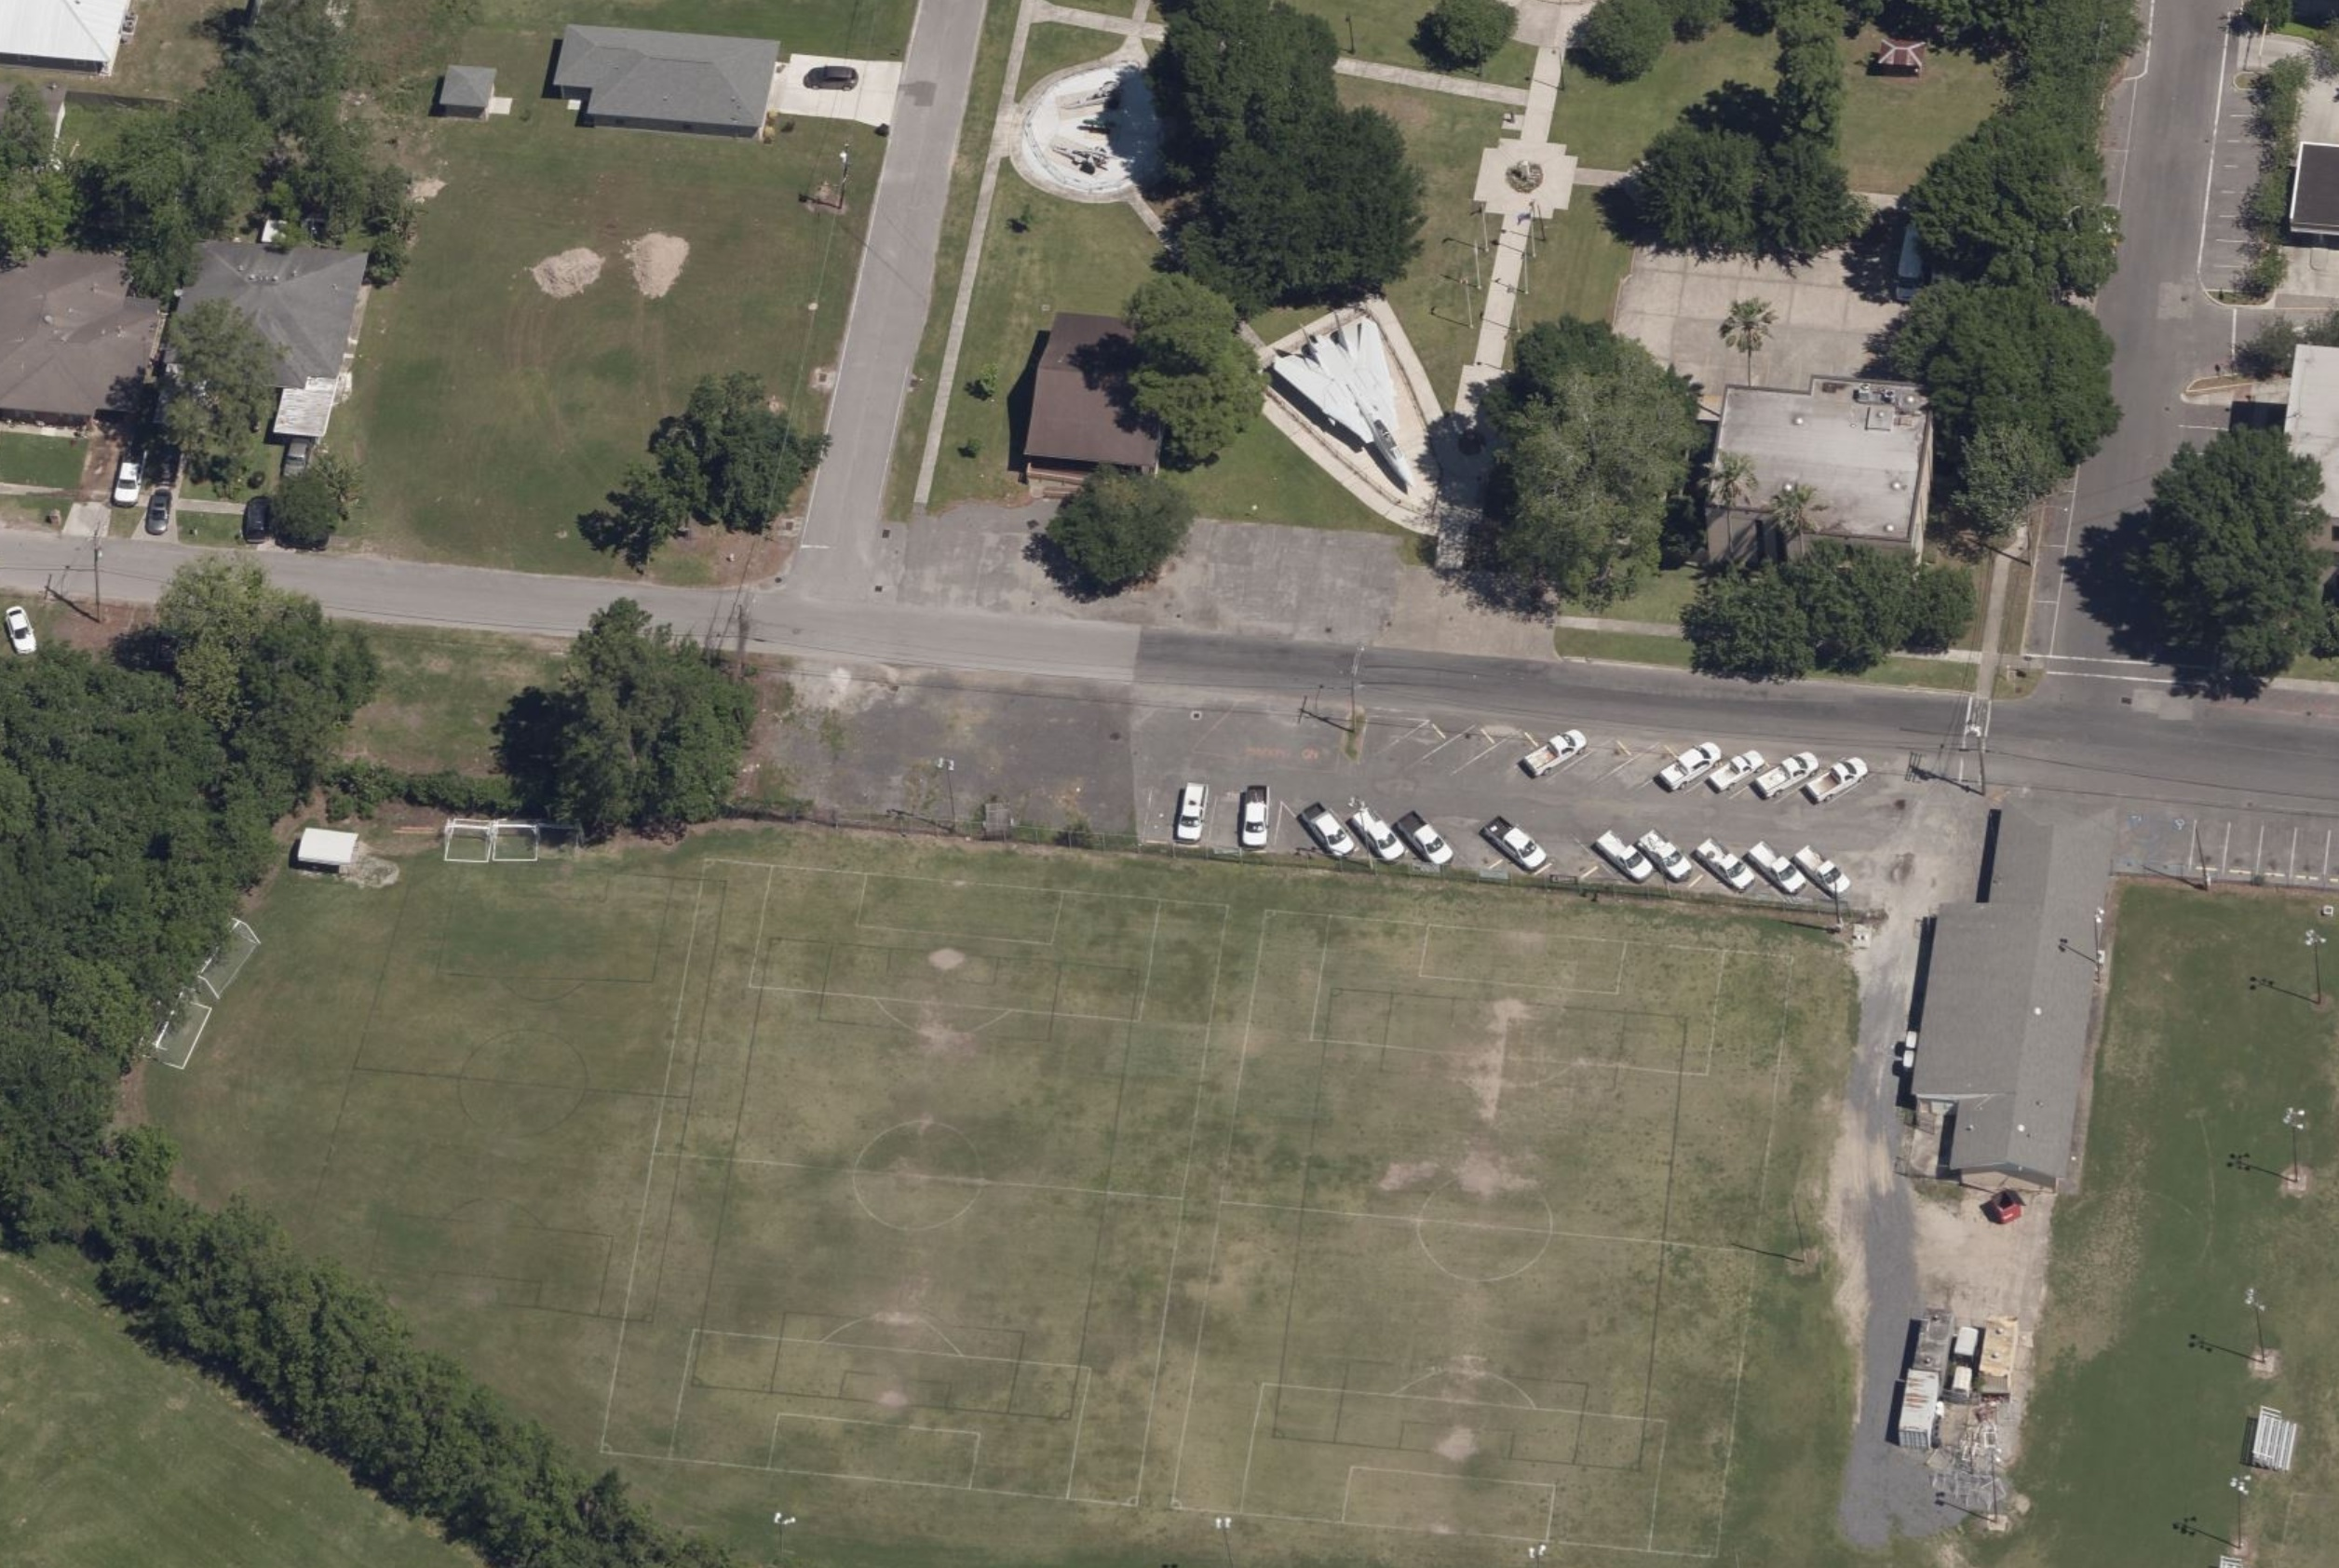F14: (1274, 308, 1414, 488)
